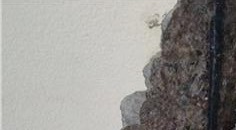Corrosion: (119, 1, 236, 130)
Exposed reinforcement: (206, 1, 221, 130)
